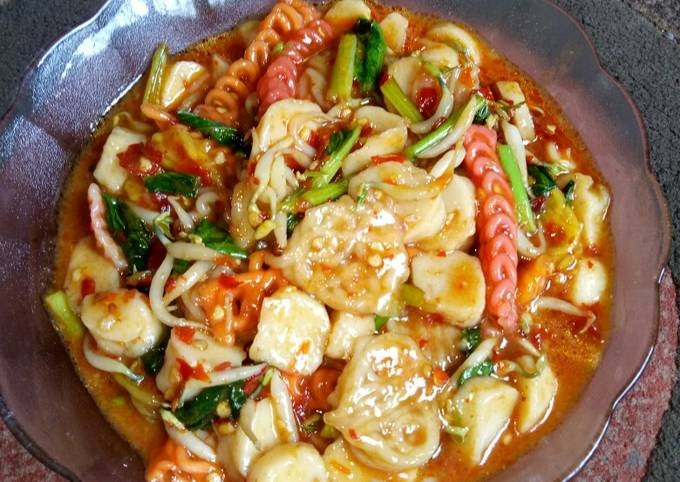seblak: (60, 1, 610, 482)
